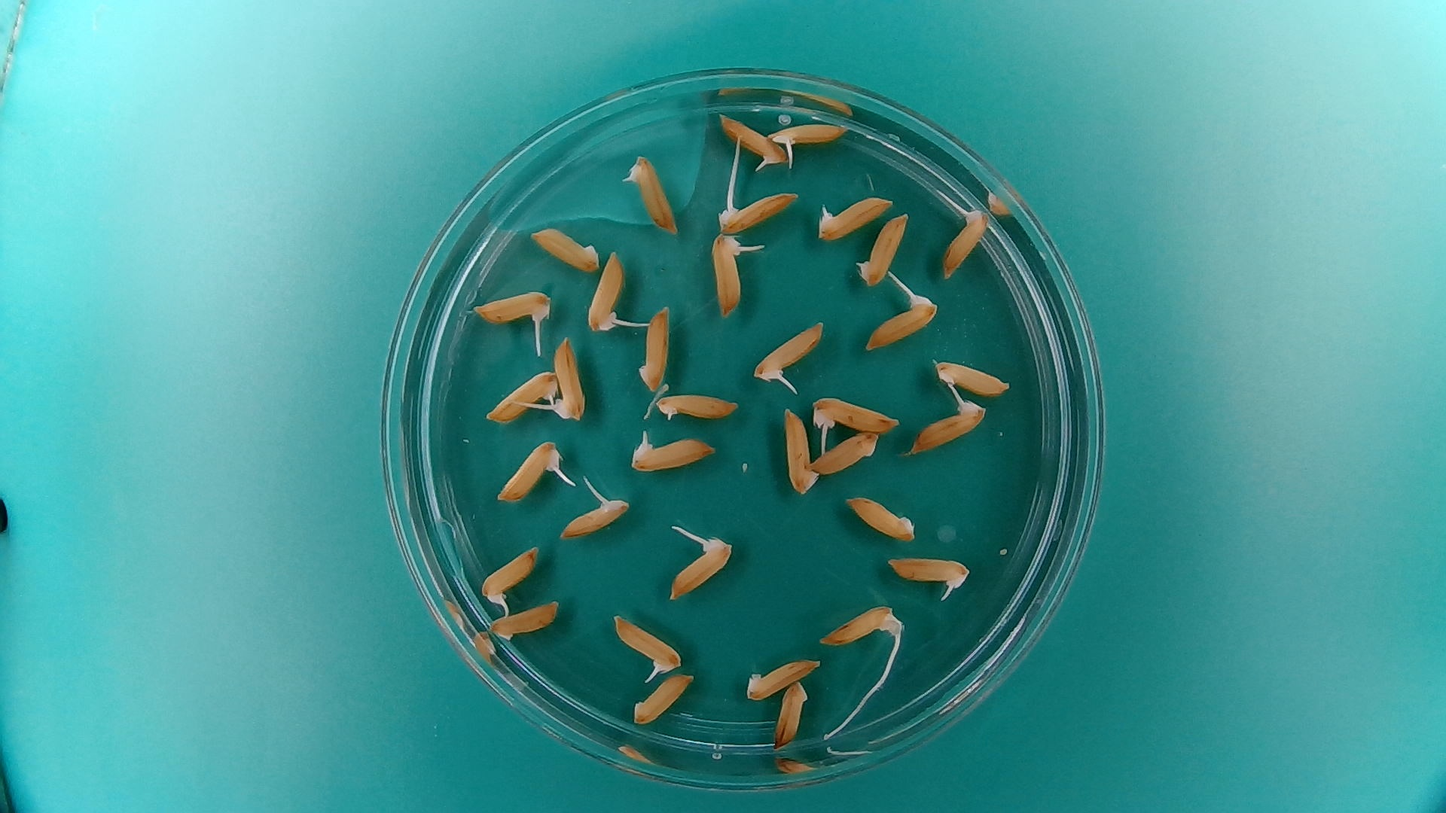no: (840, 492, 920, 546), (742, 653, 824, 703), (526, 223, 602, 275), (631, 301, 673, 394), (630, 671, 696, 729), (859, 212, 909, 287), (780, 403, 819, 499), (651, 386, 744, 425), (808, 429, 881, 475), (489, 601, 562, 641), (770, 678, 808, 754), (934, 363, 1008, 395)
yes: (751, 314, 826, 381), (481, 367, 561, 427), (809, 390, 904, 439), (859, 295, 935, 355), (624, 428, 721, 475), (670, 536, 735, 601), (470, 282, 557, 330), (493, 440, 558, 504), (911, 400, 988, 454), (628, 155, 682, 231), (611, 617, 682, 674), (715, 113, 787, 169), (715, 188, 802, 233), (481, 543, 542, 605), (816, 193, 889, 243), (938, 211, 989, 282), (584, 248, 623, 335), (707, 236, 746, 321), (819, 604, 898, 644), (560, 497, 630, 542), (553, 336, 588, 421), (886, 558, 969, 591), (766, 121, 854, 148)
